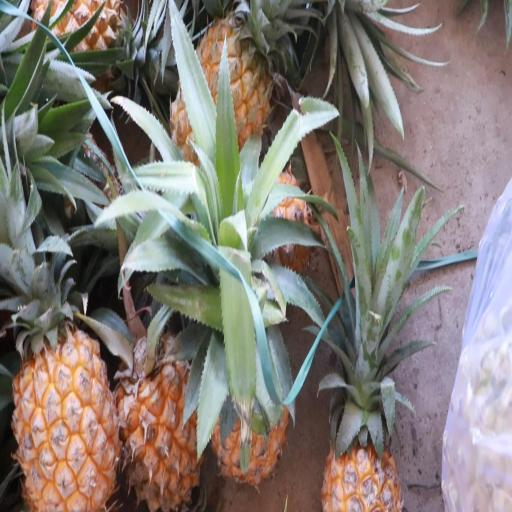Pineapple - v8 v1: (165, 8, 279, 202), (5, 326, 121, 512), (110, 327, 209, 512), (20, 0, 146, 115)
